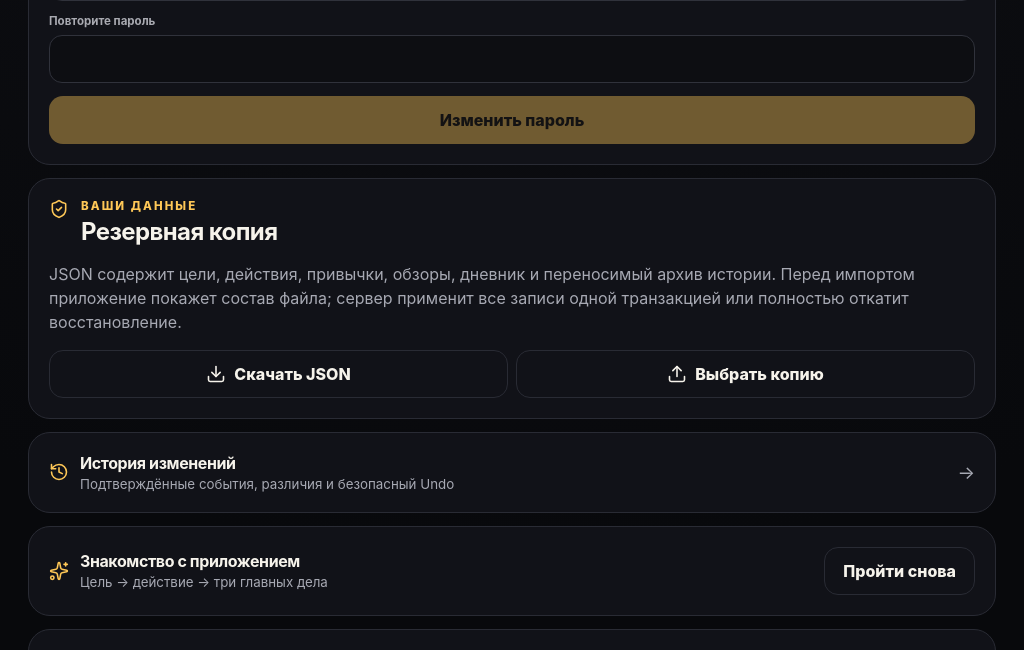
Test: backup and sync controls › does not download a prepared backup after an owner race is detected
(page scrolled)
Click the button "Скачать JSON": (278, 374) top-left (49, 350), bottom-right (508, 398)
(page scrolled)
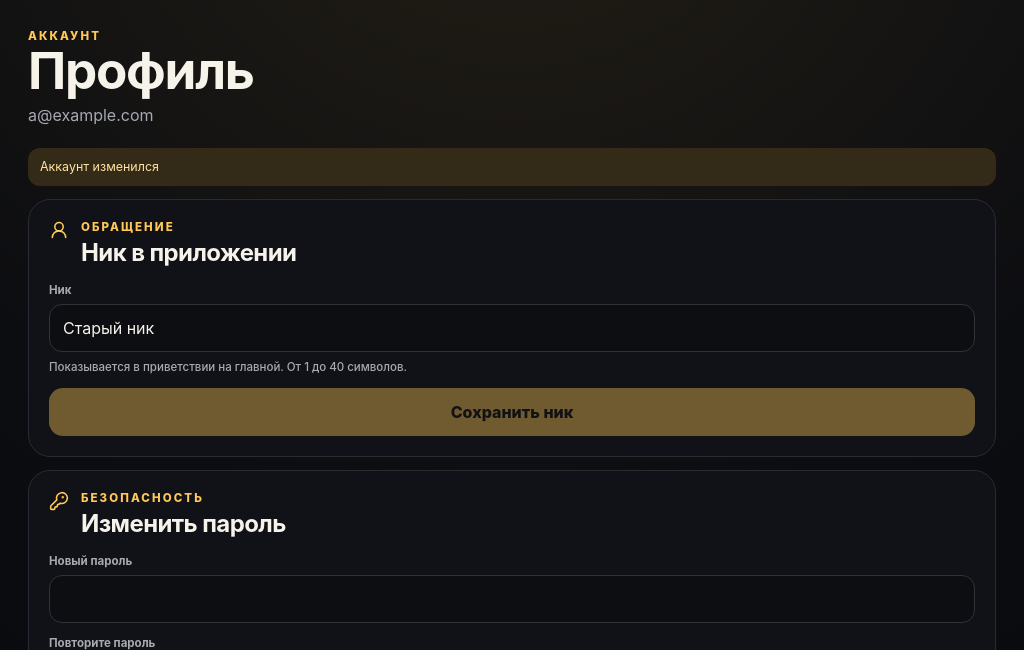
Expected: the message reads "Аккаунт изменился", top-left (40, 159), bottom-right (159, 174)
